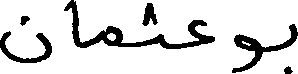ا: (71, 0, 79, 48)
ب: (283, 22, 295, 72)
ث: (143, 0, 165, 48)
ع: (188, 18, 213, 47)
م: (102, 23, 123, 46)
ن: (0, 13, 49, 63)
و: (234, 31, 260, 71)
